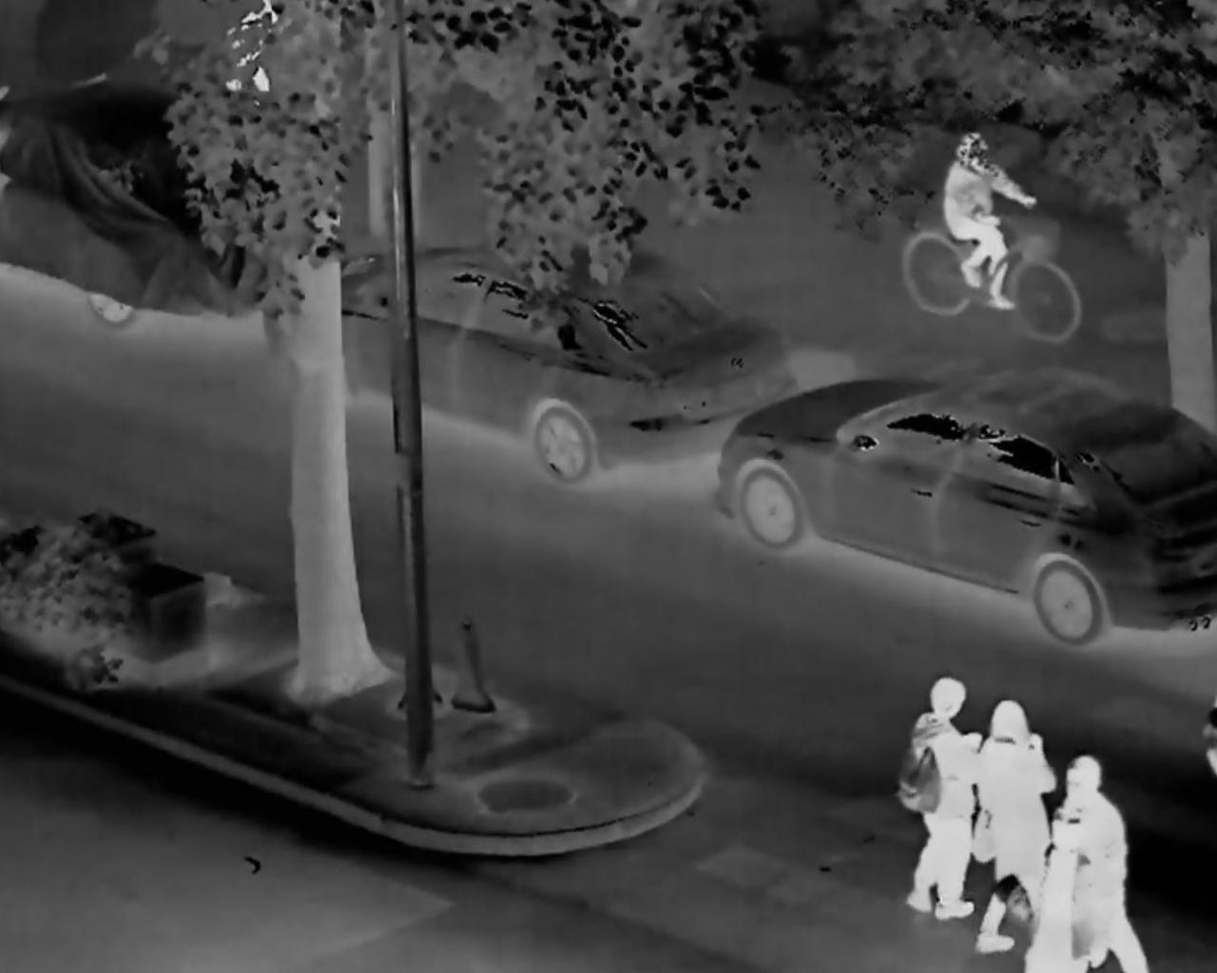person: (899, 670, 987, 931), (980, 700, 1063, 950), (932, 120, 1030, 325), (1038, 738, 1114, 973)
